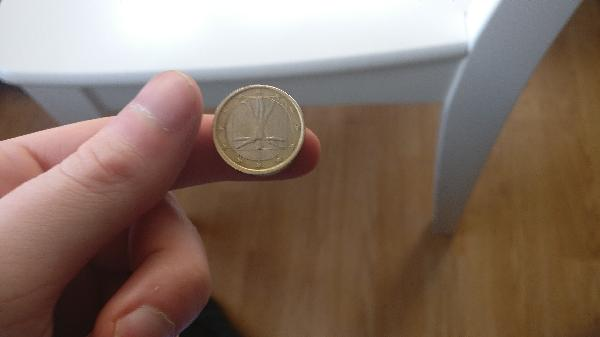One Euro: (210, 87, 304, 176)
